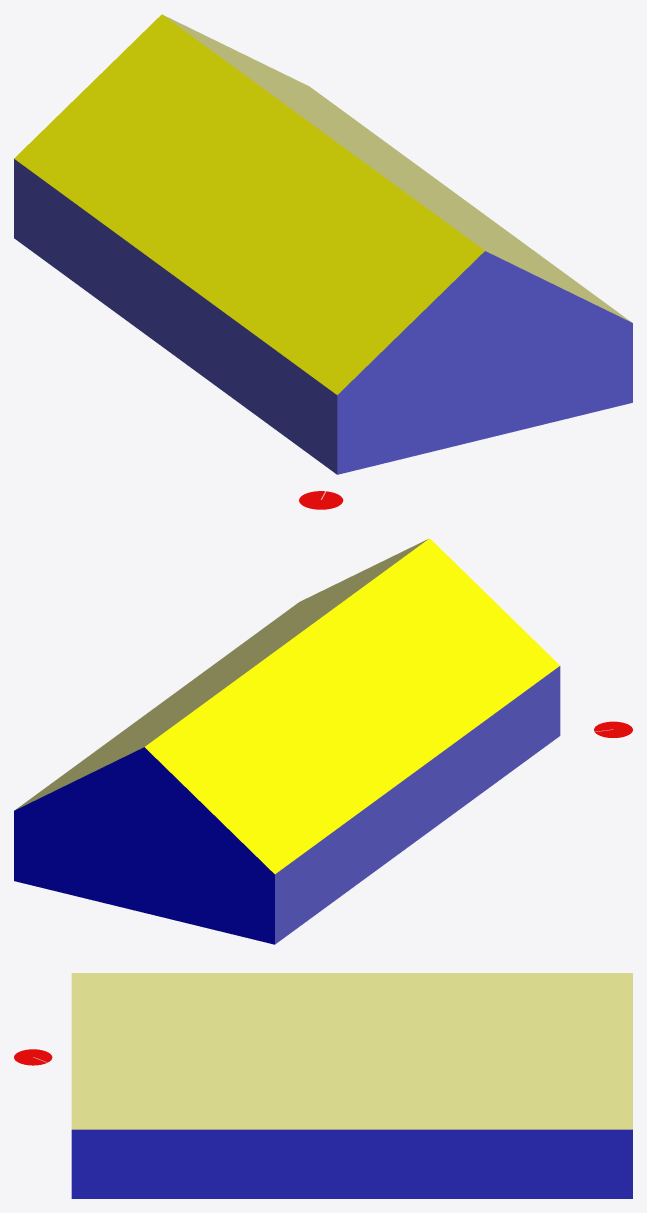
The model's file is result.glb.
3 renders of one model, top to bottom at view 1: azimuth 30°, elevation 25°; view 2: azimuth 150°, elevation 25°; view 3: azimuth 270°, elevation 25°, orthographic. The views are drawn at different scales.
Parts seen in each view (by area): view 1: 53fd139a-b559-4fcf-87f8-8798f06e0ec8__undefined, 38c6c7c9-7a6f-4fb6-bb31-75139b83e062__undefined, 111c04ef-b3a7-4e3e-bafb-99107e434654__undefined, e52b93fd-69e1-4167-823a-aa5795a37d8a__undefined; view 2: 53fd139a-b559-4fcf-87f8-8798f06e0ec8__undefined, 8816f72c-f6d6-4ec6-8789-5a182a789a33__undefined, 111c04ef-b3a7-4e3e-bafb-99107e434654__undefined, e52b93fd-69e1-4167-823a-aa5795a37d8a__undefined; view 3: e52b93fd-69e1-4167-823a-aa5795a37d8a__undefined, 29578dcf-5319-4790-8904-9f8ec18a5ab5__undefined, 5cd8a63a-e173-4185-9408-373871bb8afb__Circle.
Boxes of the visible parts, left/top/right/bottom form: 53fd139a-b559-4fcf-87f8-8798f06e0ec8__undefined: left=14, top=14, right=484, bottom=394; 38c6c7c9-7a6f-4fb6-bb31-75139b83e062__undefined: left=337, top=251, right=632, bottom=474; 111c04ef-b3a7-4e3e-bafb-99107e434654__undefined: left=14, top=159, right=337, bottom=474; e52b93fd-69e1-4167-823a-aa5795a37d8a__undefined: left=163, top=15, right=631, bottom=322; 53fd139a-b559-4fcf-87f8-8798f06e0ec8__undefined: left=145, top=538, right=559, bottom=873; 8816f72c-f6d6-4ec6-8789-5a182a789a33__undefined: left=14, top=747, right=274, bottom=944; 111c04ef-b3a7-4e3e-bafb-99107e434654__undefined: left=275, top=666, right=560, bottom=944; e52b93fd-69e1-4167-823a-aa5795a37d8a__undefined: left=15, top=539, right=428, bottom=809; e52b93fd-69e1-4167-823a-aa5795a37d8a__undefined: left=71, top=973, right=632, bottom=1129; 29578dcf-5319-4790-8904-9f8ec18a5ab5__undefined: left=71, top=1129, right=632, bottom=1198; 5cd8a63a-e173-4185-9408-373871bb8afb__Circle: left=14, top=1049, right=52, bottom=1065.
Bounding box in the file's own units: 923 × 469 × 1614.
